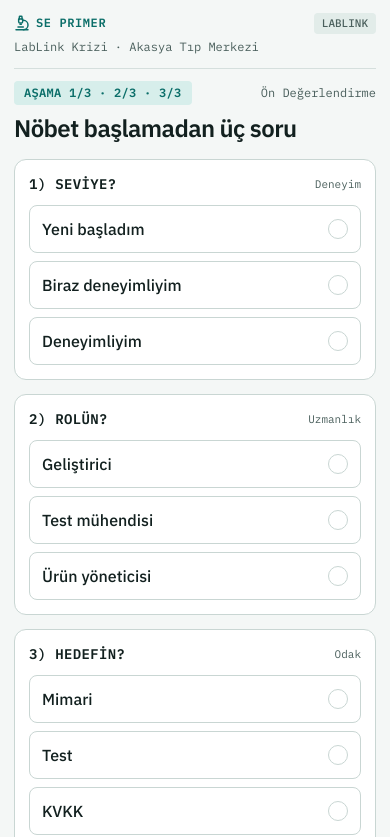
KÖ-1: Yeni başladım › ipucu sınırsız ve her seferinde tutor balonu ekler
This screenshot has width=390, height=837.
Click the radio button with test id "level-yeni". click: (93, 229)
box: [29, 205, 361, 253]
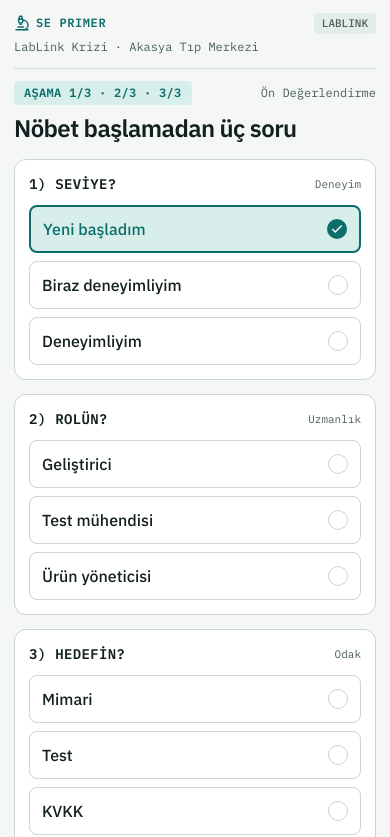
Click the radio button labelled "Geliştirici". click: (77, 464)
box: [29, 440, 361, 488]
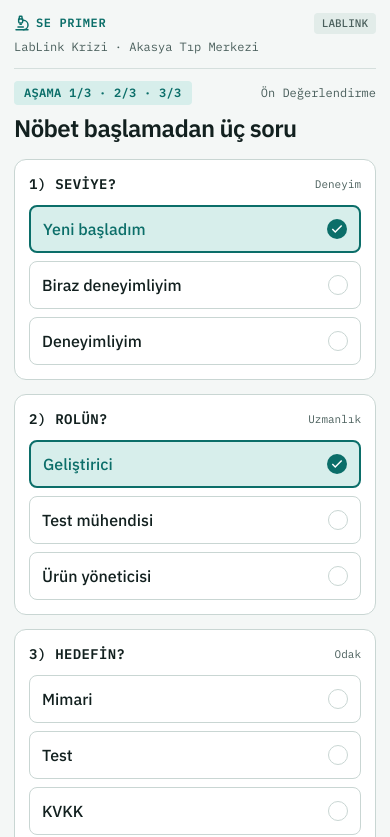
Click the radio button labelled "Mimari". click: (67, 699)
box: [29, 675, 361, 723]
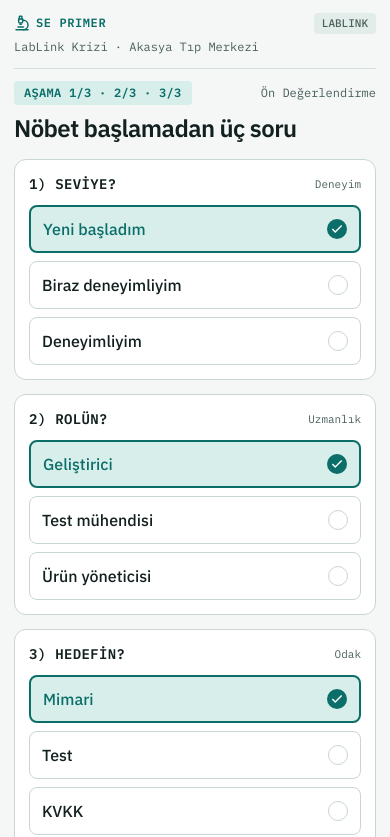
Scroll
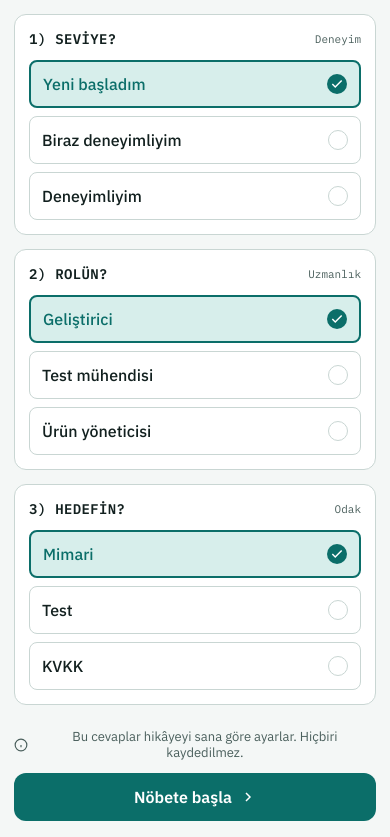
Click the button with test id "start-btn". click: (195, 797)
box: [14, 773, 376, 821]
(page scrolled)
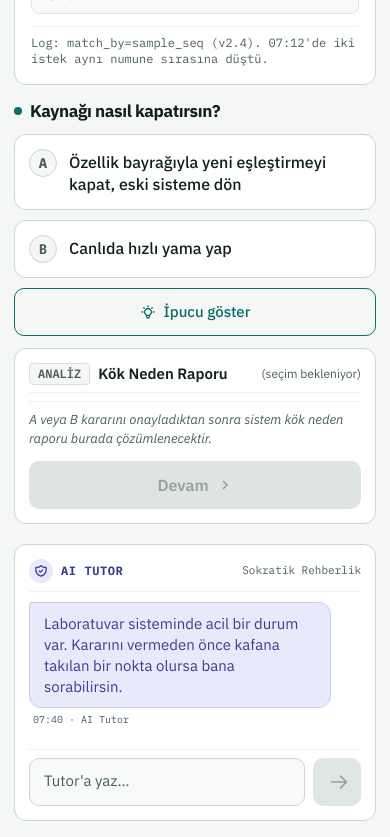
Click the button with test id "hint-btn". click: (195, 312)
box: [14, 288, 376, 336]
(page scrolled)
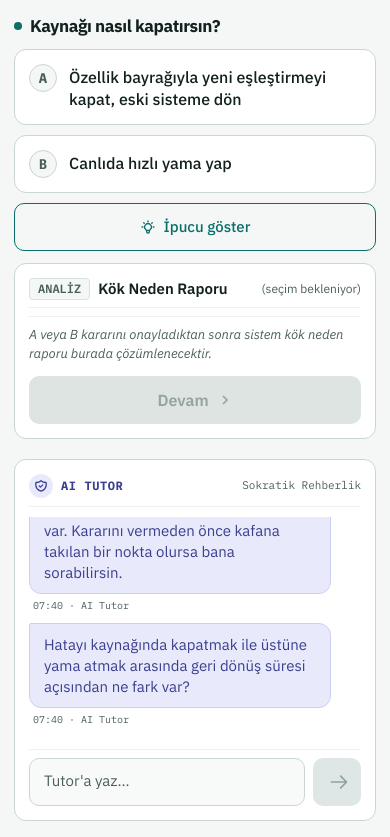
Check: the number of elements with test id "tutor-msg" is 2, box [29, 516, 331, 612]; [29, 622, 331, 726]
